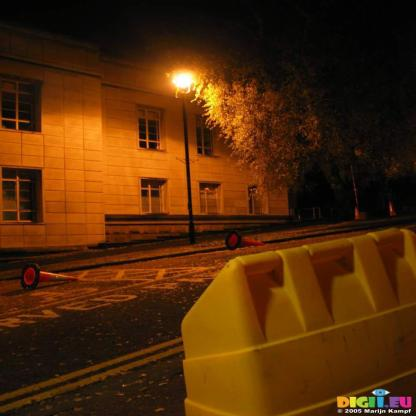other: (160, 62, 210, 110)
